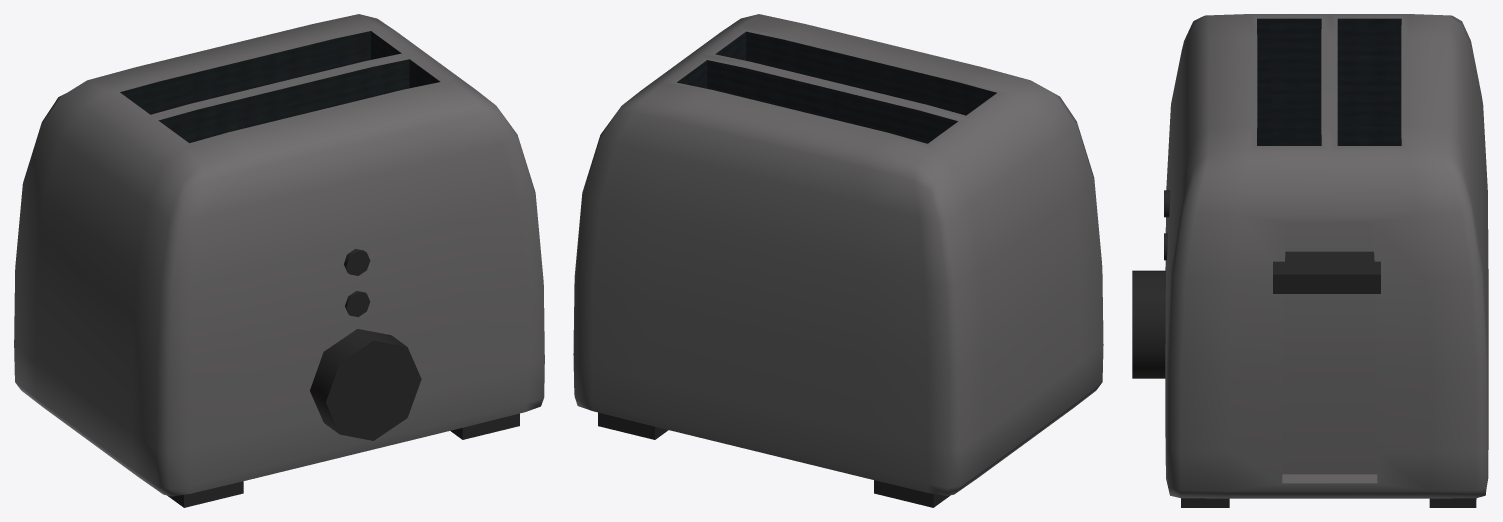
File: Toaster.fbx
3 renders of one model, left to right at view 1: azimuth 30°, elevation 25°; view 2: azimuth 150°, elevation 25°; view 3: azimuth 270°, elevation 25°, orthographic. The views are drawn at different scales.
Visible parts, largest first — view 1: Toaster; view 2: Toaster; view 3: Toaster.
Boxes of the visible parts, x1=… form: Toaster: x1=14, y1=14, x2=544, y2=507; Toaster: x1=573, y1=14, x2=1103, y2=507; Toaster: x1=1132, y1=14, x2=1488, y2=507.
Size of the model in its own units: 27 by 20.98 by 19.84.
